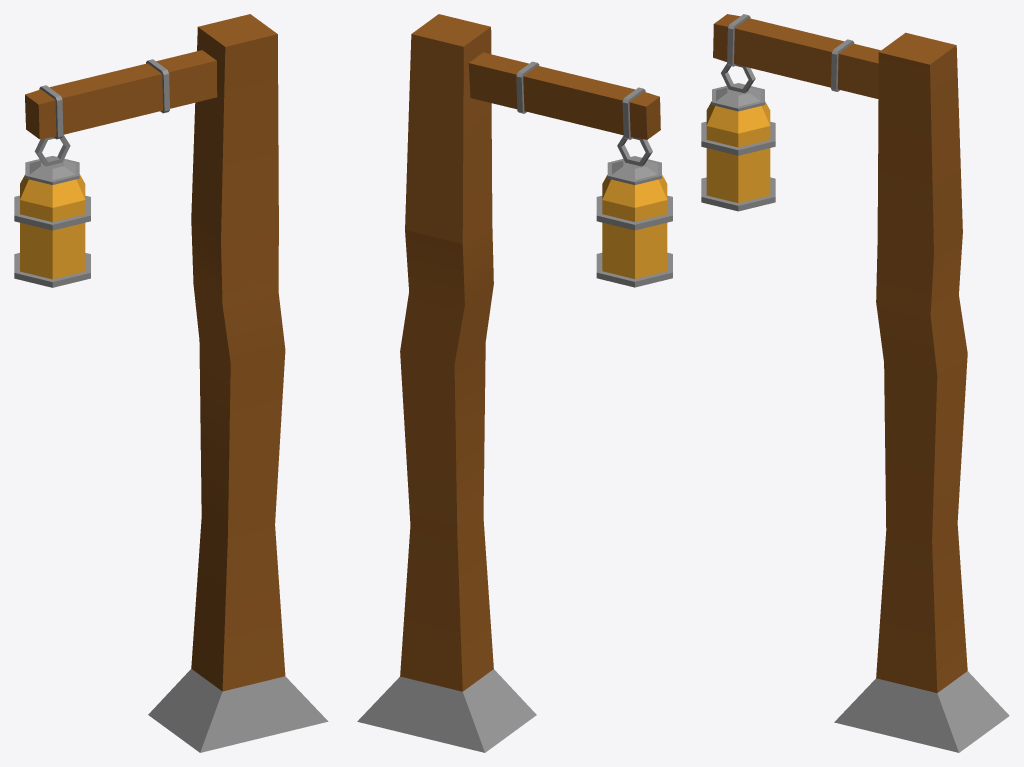
Rendered from Prop_Lantern_Post_01.fbx.
The picture shows the model from 3 angles, left to right: view 1: azimuth 30°, elevation 25°; view 2: azimuth 150°, elevation 25°; view 3: azimuth 330°, elevation 25°; orthographic projection. The views are drawn at different scales.
Parts seen in each view (by area): view 1: Prop_Lantern_Post_01; view 2: Prop_Lantern_Post_01; view 3: Prop_Lantern_Post_01.
Part boxes in pixels (left/top/right/bottom): Prop_Lantern_Post_01: left=14, top=14, right=328, bottom=752; Prop_Lantern_Post_01: left=357, top=14, right=672, bottom=752; Prop_Lantern_Post_01: left=701, top=14, right=1009, bottom=752.
Size of the model in its own units: 52.13 by 119 by 16.24.
